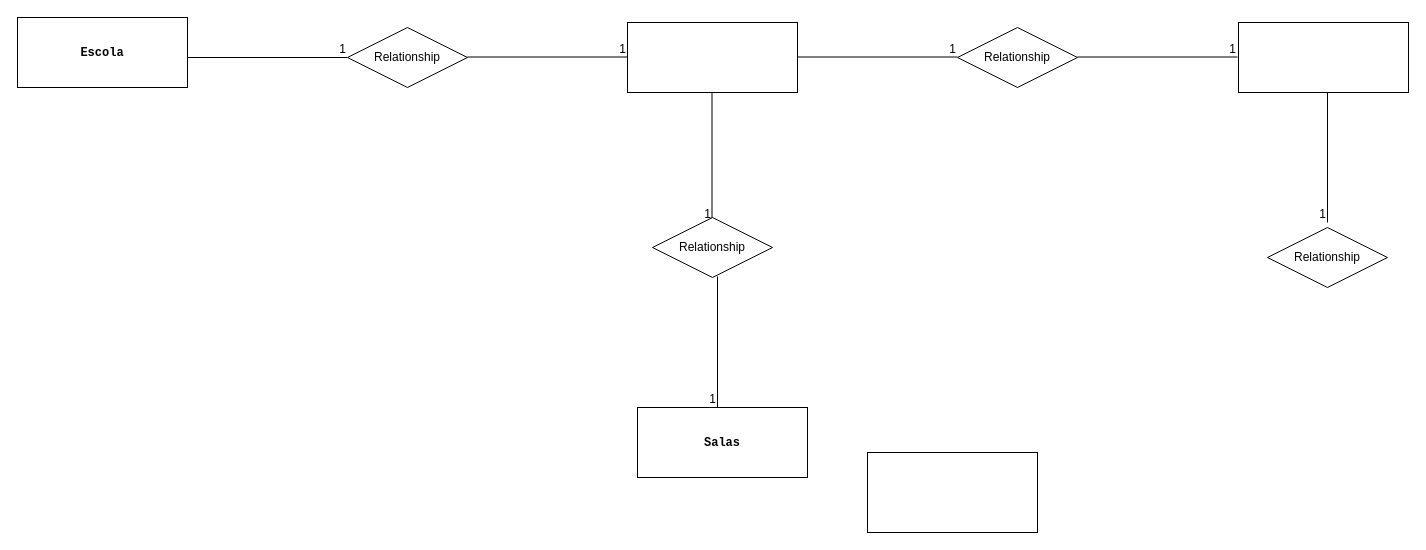
Image size: 1426x550. Some labels were removed from this diagram. The box of each missing label's shape, as (x1, y1, x2, y2) in pixels:
Aulas: (626, 22, 798, 92)
Professores: (1238, 22, 1408, 92)
Turmas: (866, 452, 1038, 532)
